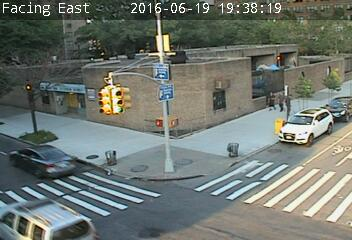neg: (251, 59, 259, 69), (176, 39, 183, 49)
pos: (263, 89, 278, 109), (274, 92, 289, 112)
